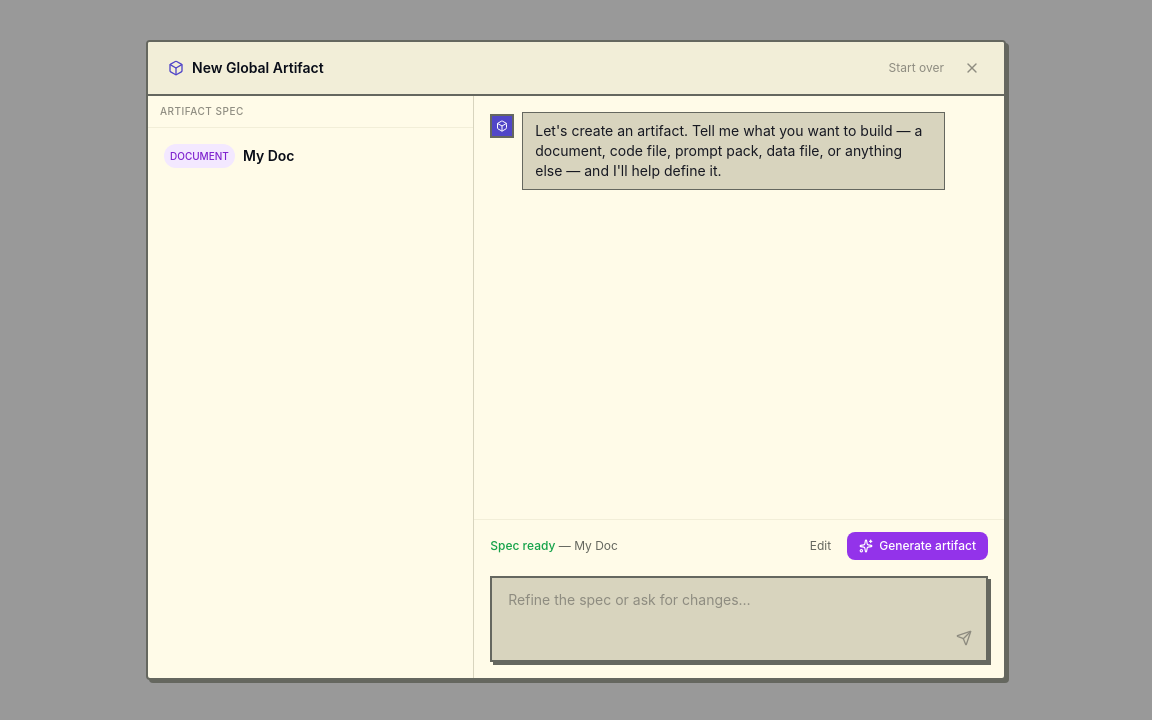
it: ArtifactGeneratorModal › DoneOverlay "Generate another" resets to chat phase
Check: the text "Spec ready" is shown, box [490, 538, 555, 553]
Click the button "Generate artifact".
click(918, 546)  # box [847, 532, 988, 560]
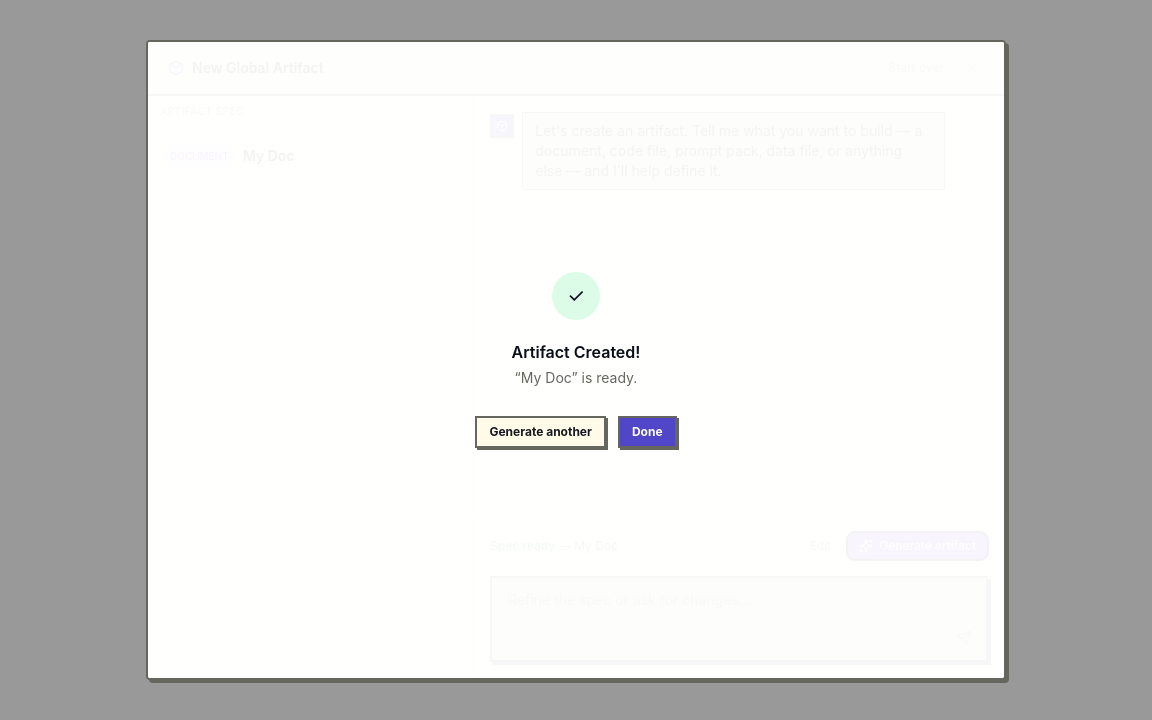
Check: the text "Artifact Created!" is shown, box [512, 340, 640, 364]
Click the button "Generate another".
click(541, 432)  # box [475, 416, 606, 448]
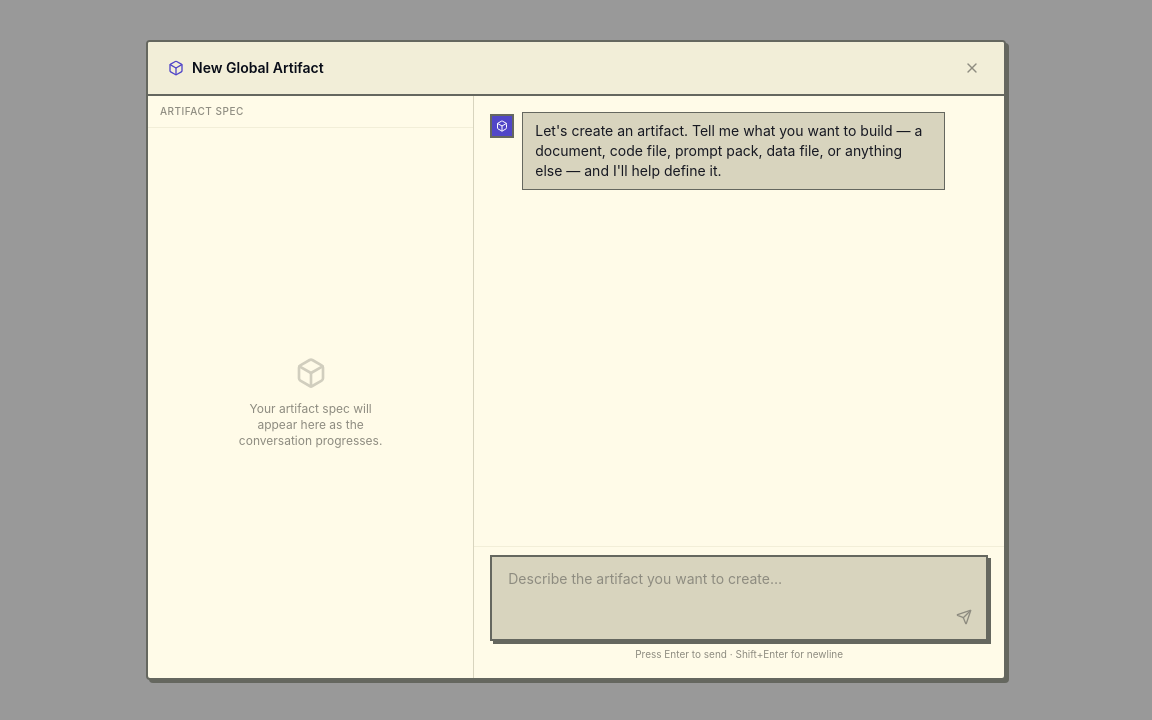
Check: the text "Let's create an artifact" is shown, box [535, 122, 926, 179]
Check: the text "Artifact Created!" is gone
